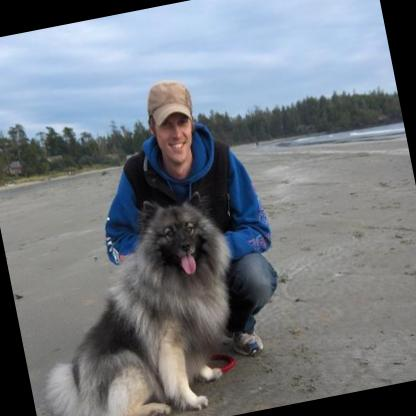keeshond: (11, 181, 260, 416)
